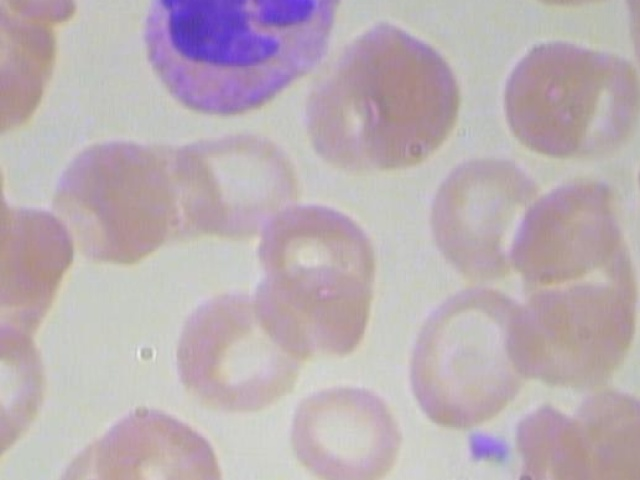RBC: (406, 277, 543, 434), (171, 288, 321, 417), (173, 116, 310, 255), (502, 259, 639, 398), (44, 129, 175, 270), (419, 149, 546, 288), (486, 30, 610, 165), (284, 378, 415, 480), (90, 394, 227, 480), (0, 321, 50, 456), (495, 0, 632, 11)
